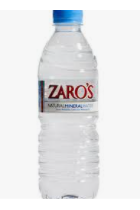Bottle: (39, 10, 98, 199)
